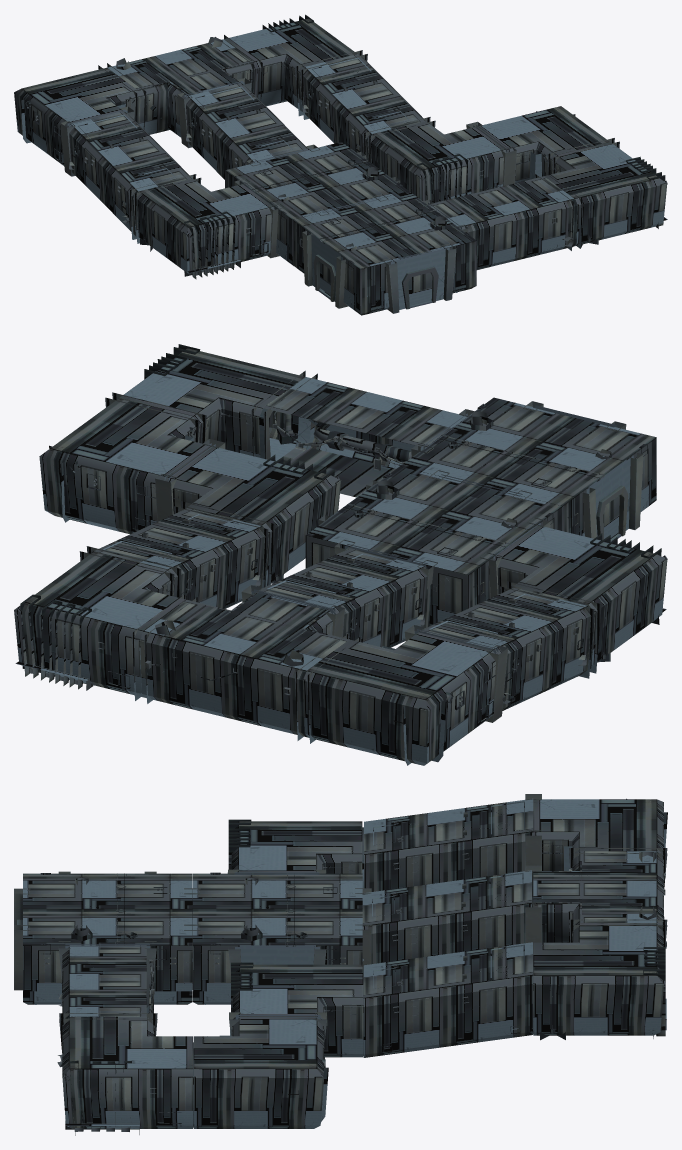
The model's file is Combined_Mesh_root_scene__6_2d4a9e78__zombies2_diffuse_03_64bb9bc2_c1f257.obj.
3 renders of one model, top to bottom at view 1: azimuth 30°, elevation 25°; view 2: azimuth 150°, elevation 25°; view 3: azimuth 270°, elevation 25°, orthographic. The views are drawn at different scales.
Bounding box in the file's own units: 71.92 × 12.27 × 77.15.
Materials: 202 (202 with a texture image).
